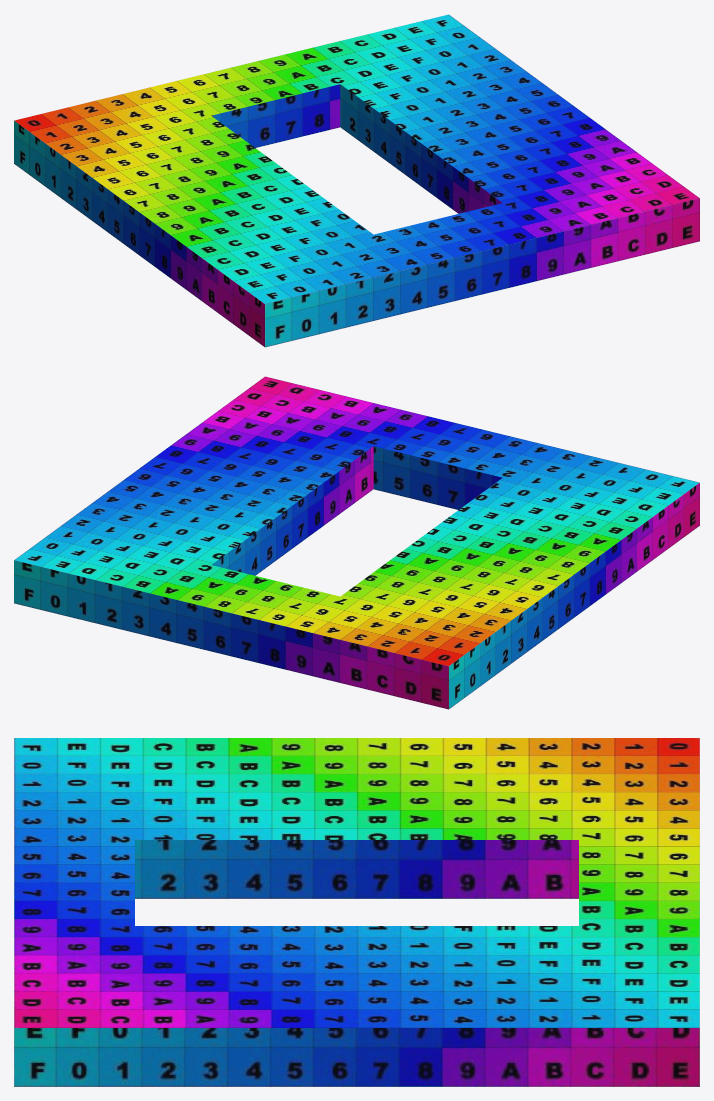
The model's file is bbuilder_box with large hole thin square.dae.
The picture shows the model from 3 angles, top to bottom: view 1: azimuth 30°, elevation 25°; view 2: azimuth 150°, elevation 25°; view 3: azimuth 270°, elevation 25°; orthographic projection. The views are drawn at different scales.
Visible parts, largest first — view 1: SketchUp (×2); view 2: SketchUp (×2); view 3: SketchUp (×2).
Part boxes in pixels (x1=…): SketchUp (×2): x1=14, y1=14, x2=699, y2=347; SketchUp (×2): x1=14, y1=376, x2=699, y2=709; SketchUp (×2): x1=14, y1=738, x2=699, y2=1086.
Size of the model in its own units: 134 by 134 by 12.69.
